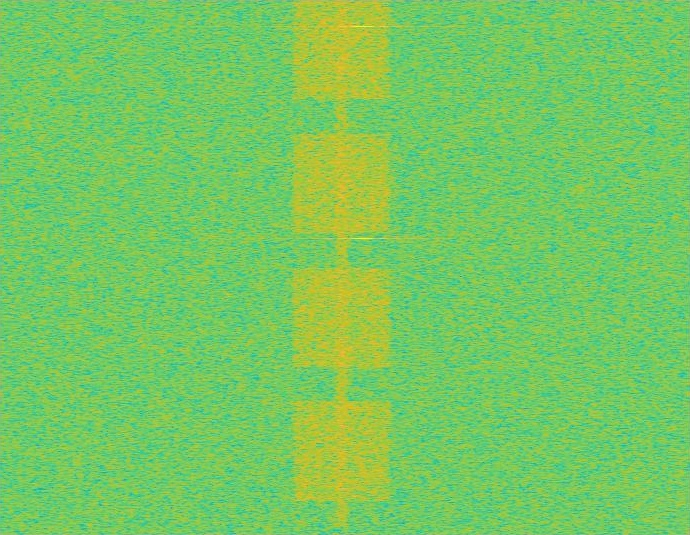5G: (290, 0, 394, 534)
DSSS: (335, 0, 349, 534)
Radar: (356, 0, 370, 534)
